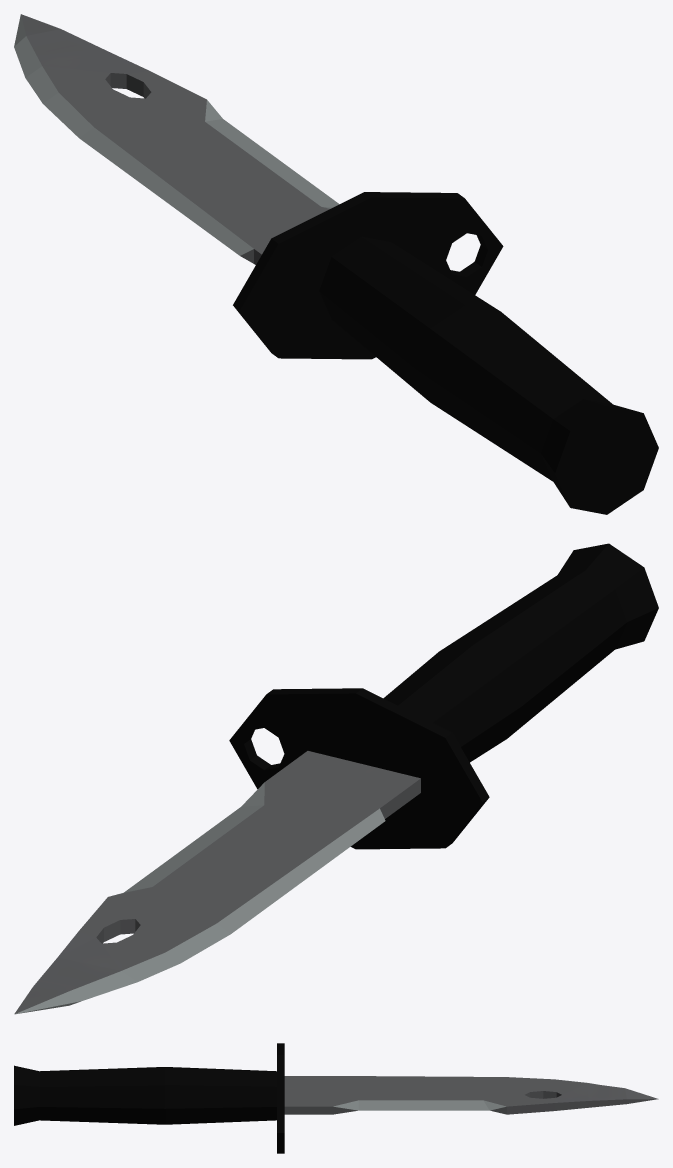
Rendered from scene_PBhlLlJJEb.glb.
3 renders of one model, top to bottom at view 1: azimuth 30°, elevation 25°; view 2: azimuth 150°, elevation 25°; view 3: azimuth 270°, elevation 25°, orthographic. The views are drawn at different scales.
Parts seen in each view (by area): view 1: Hunters_Knife; view 2: Hunters_Knife; view 3: Hunters_Knife.
Part boxes in pixels (bbox=[...]): Hunters_Knife: bbox=[14, 14, 658, 514]; Hunters_Knife: bbox=[14, 543, 658, 1014]; Hunters_Knife: bbox=[14, 1043, 658, 1153].
Bounding box in the file's own units: 0.1291 × 0.0759 × 0.5111.
1 material, 1 textured.
